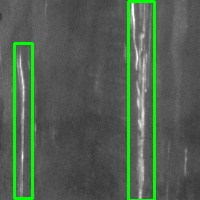scratches: (128, 1, 154, 200), (14, 43, 32, 198)
